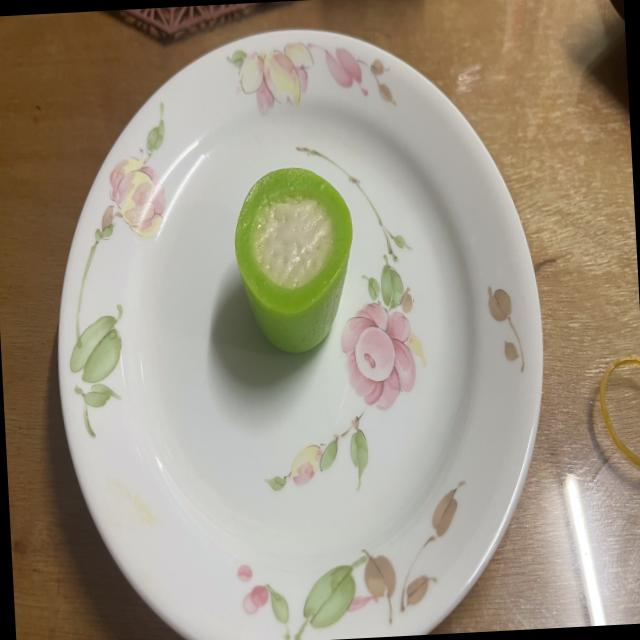nona-manis: (235, 167, 353, 353)
